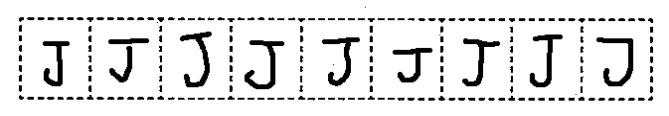J: (522, 29, 570, 92), (455, 32, 504, 93), (587, 34, 639, 91), (174, 29, 218, 92), (239, 37, 288, 92), (102, 36, 153, 84), (317, 34, 361, 88), (35, 37, 77, 91), (387, 43, 434, 87)
